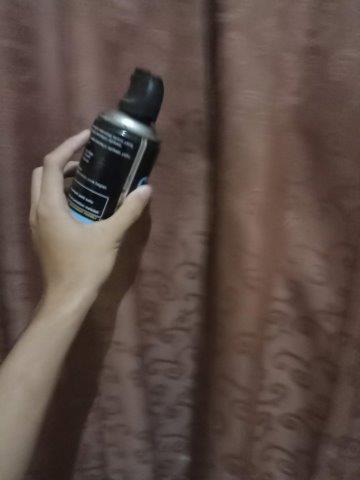kaleng: (67, 110, 162, 223)
